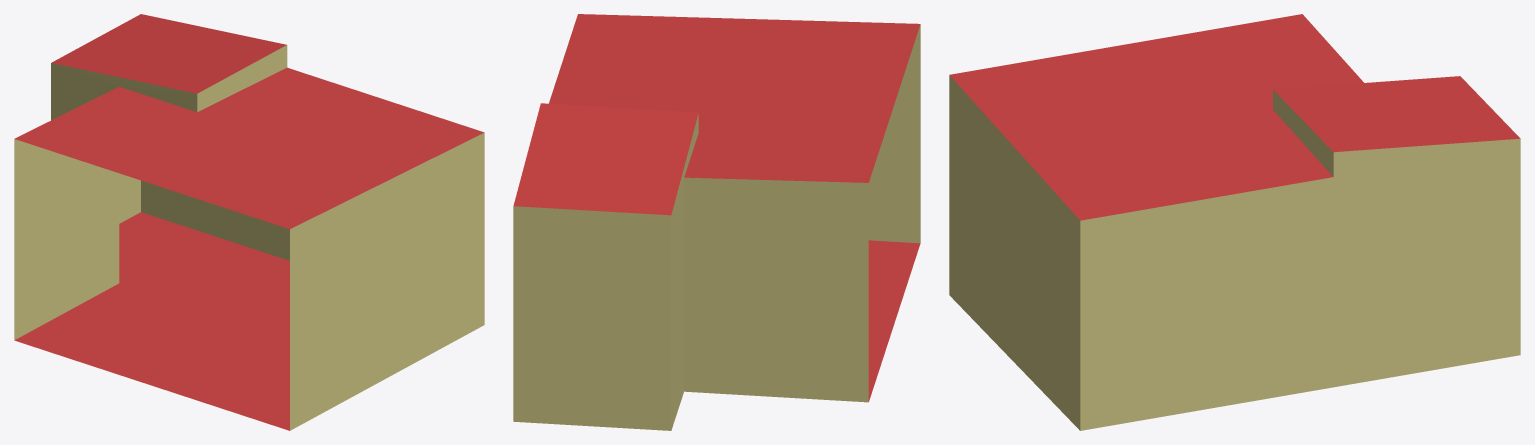
The picture shows the model from 3 angles, left to right: view 1: azimuth 30°, elevation 25°; view 2: azimuth 150°, elevation 25°; view 3: azimuth 270°, elevation 25°; orthographic projection. The views are drawn at different scales.
Size of the model in its own units: 10.72 by 13.16 by 5.98.
